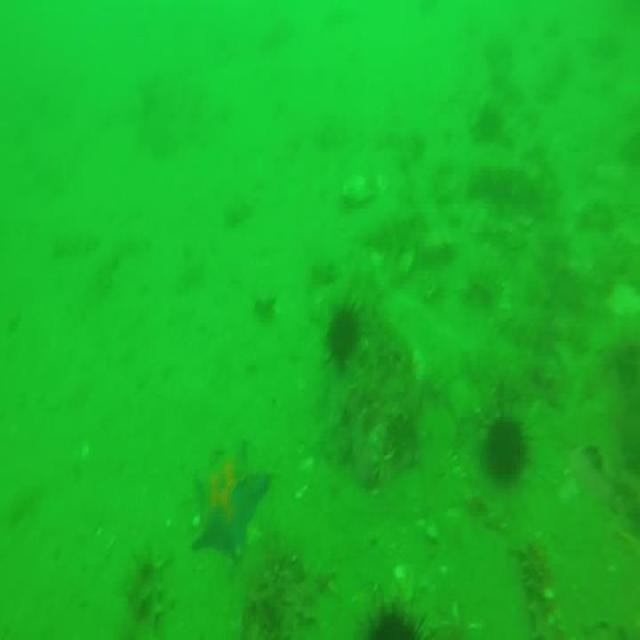echinus: (485, 410, 535, 478), (326, 302, 361, 370), (364, 608, 429, 640)
holothurian: (439, 147, 550, 199), (513, 531, 557, 640), (125, 551, 168, 640)
scallop: (346, 164, 392, 199)
starfish: (185, 432, 270, 560)
